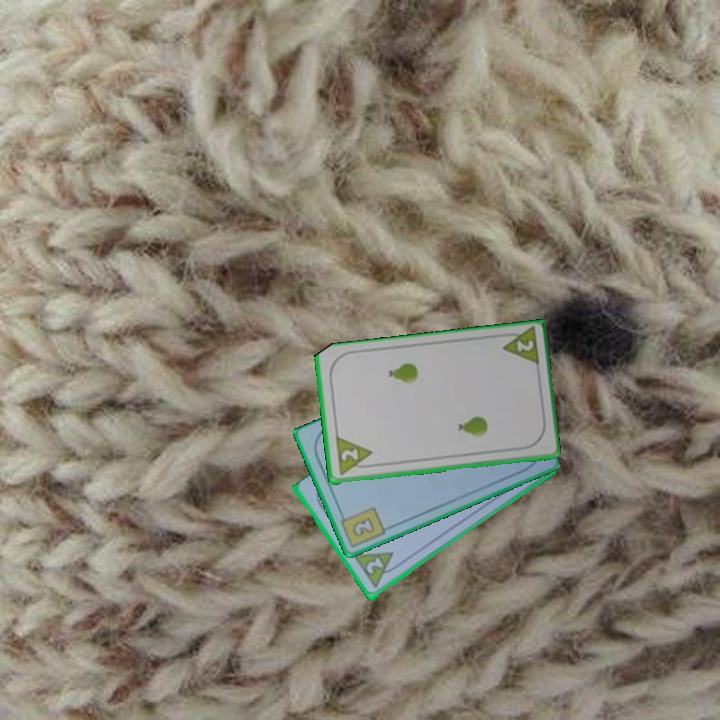2b: (336, 503, 388, 550)
2p: (332, 434, 376, 479), (362, 554, 386, 578), (512, 337, 537, 355)
